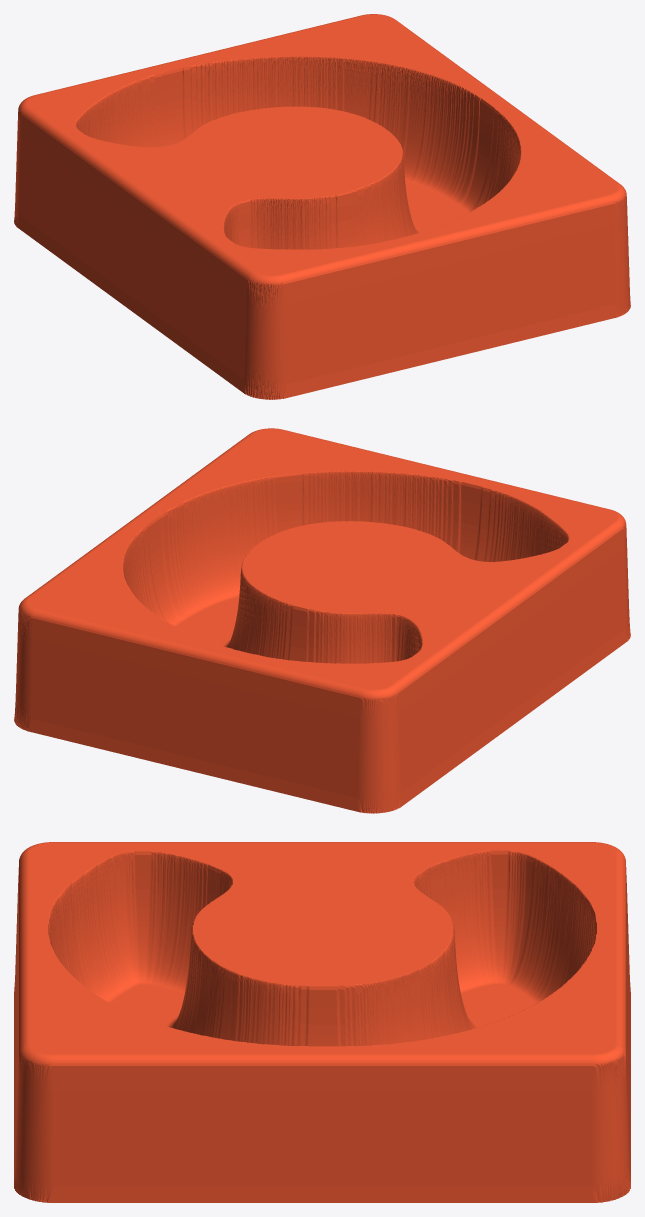
Rendered from mold.glb.
3 renders of one model, top to bottom at view 1: azimuth 30°, elevation 25°; view 2: azimuth 150°, elevation 25°; view 3: azimuth 270°, elevation 25°, orthographic. The views are drawn at different scales.
Parts seen in each view (by area): view 1: geometry_0; view 2: geometry_0; view 3: geometry_0.
Part boxes in pixels (x1,y1,x2,y2): geometry_0: (14, 14, 630, 399); geometry_0: (14, 428, 630, 813); geometry_0: (14, 842, 630, 1202).
Size of the model in its own units: 0.1234 by 0.0365 by 0.1435.
